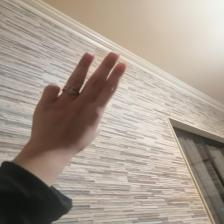five: (30, 50, 130, 153)
